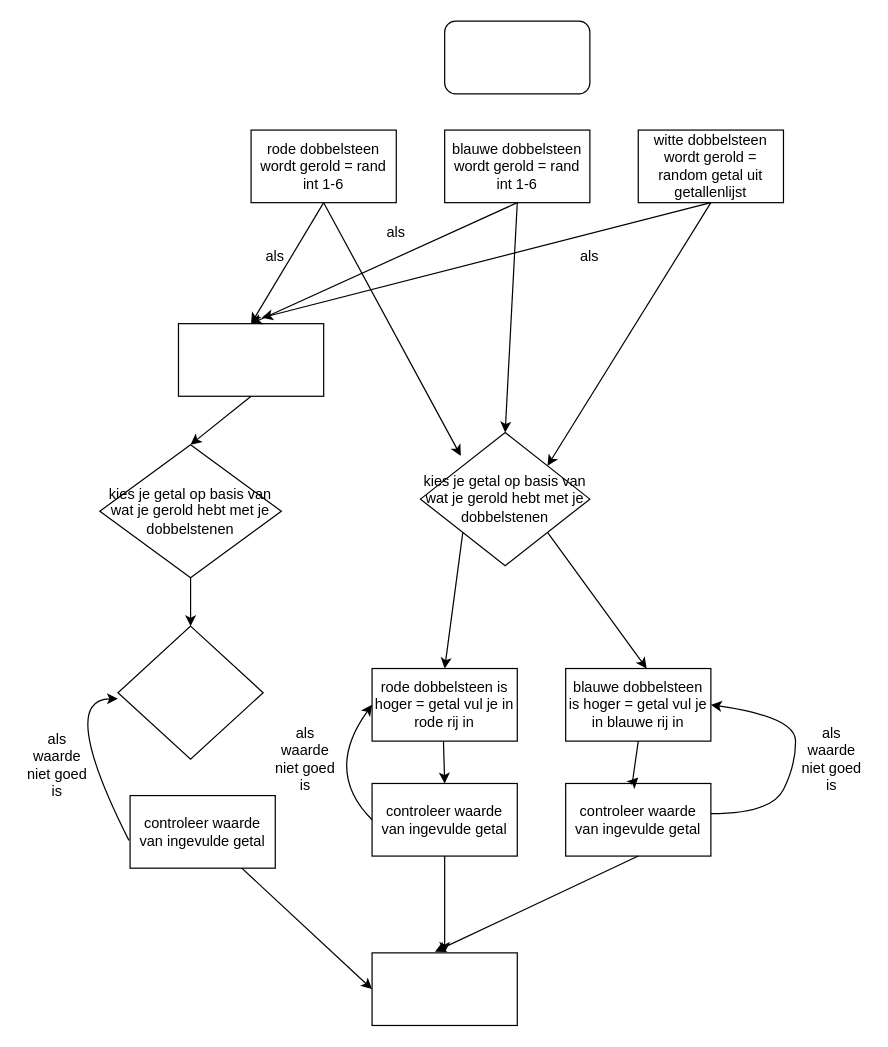
Image size: 888x1047. Some labels were removed from this diagram. The centre of each missing label's shape, as x and y in pixels:
"de rode en blauwe even hoog gegooid zijn" belongs at pixel 250 359.
"einde ronde" belongs at pixel 444 988.
"kies in welke rij je het gekozen getal invult" belongs at pixel 190 692.
"start" belongs at pixel 516 57.
